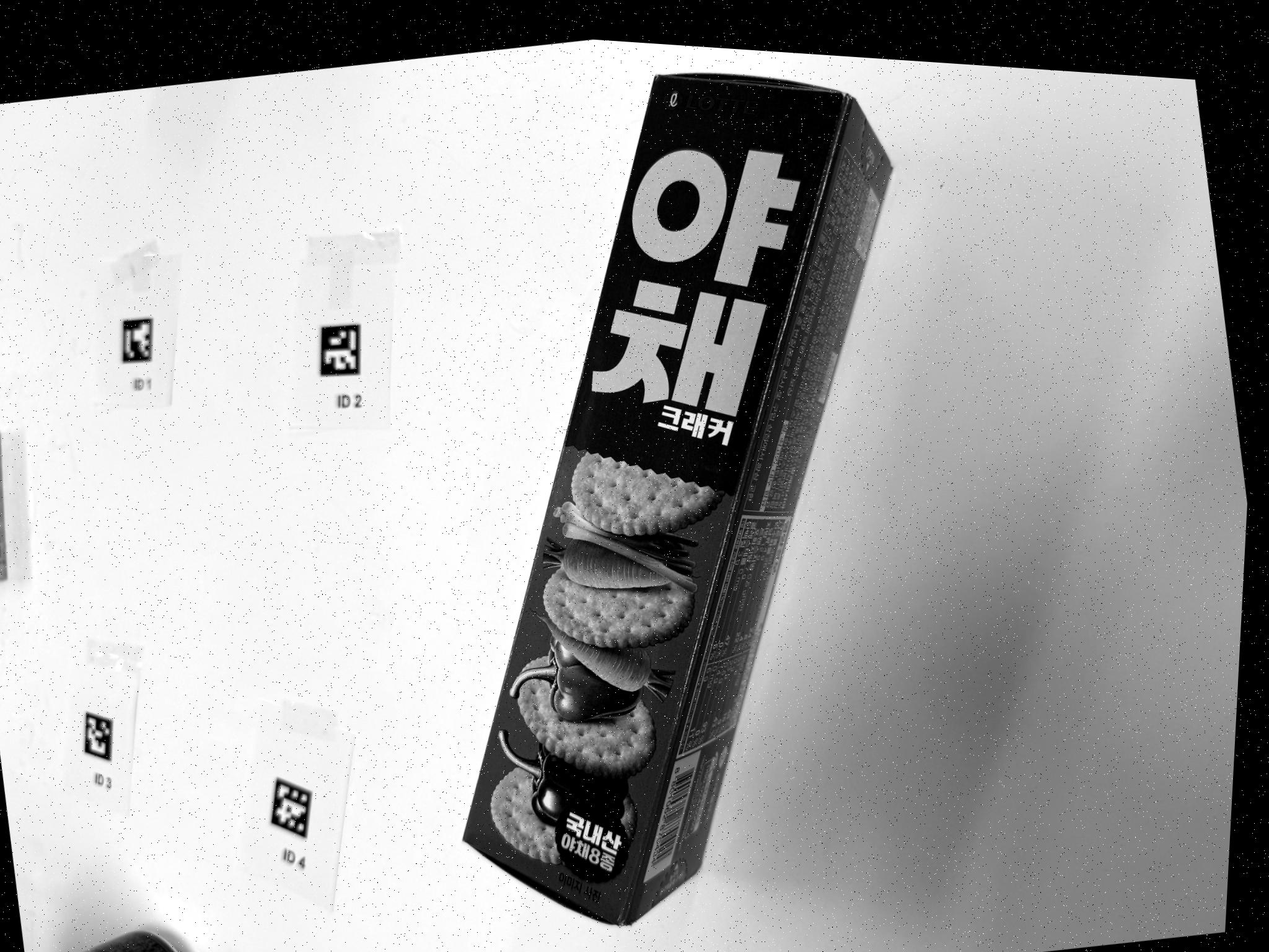cracker_vege: (464, 74, 891, 923)
